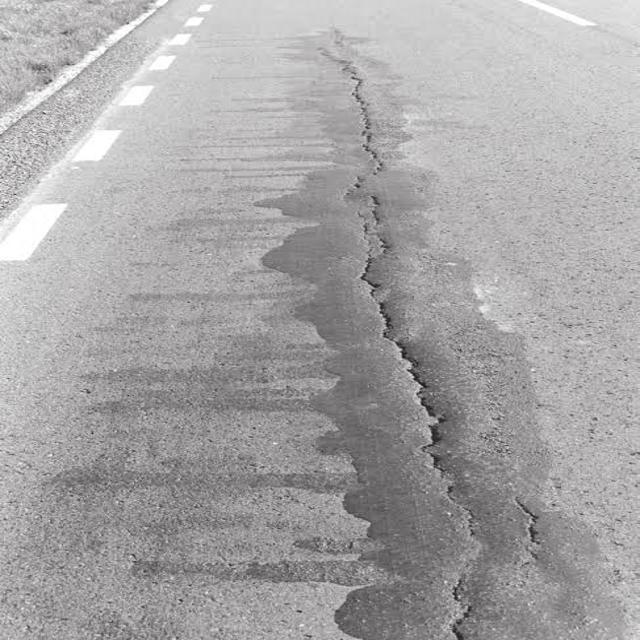Memanjang: (317, 38, 507, 640)
